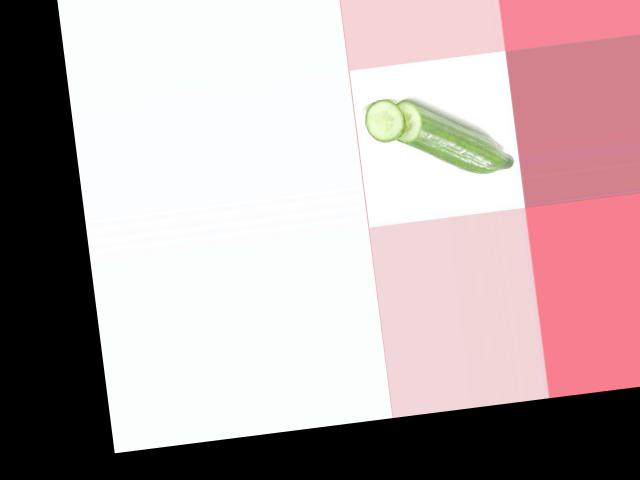cucumber: (389, 87, 514, 183)
